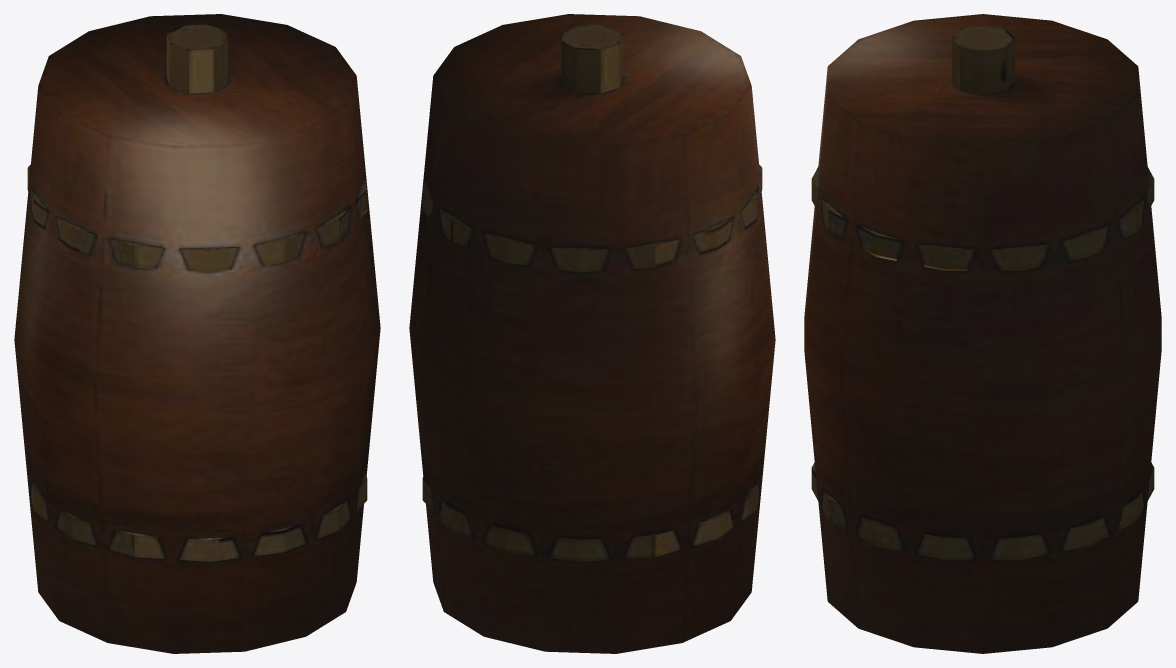
File: cantina_prop_containers_D.glb
3 renders of one model, left to right at view 1: azimuth 30°, elevation 25°; view 2: azimuth 150°, elevation 25°; view 3: azimuth 270°, elevation 25°, orthographic.
Parts seen in each view (by area): view 1: cantina_prop_containers_D; view 2: cantina_prop_containers_D; view 3: cantina_prop_containers_D.
Part boxes in pixels (x1,y1,x2,y2): cantina_prop_containers_D: (14,14,380,653); cantina_prop_containers_D: (409,14,775,653); cantina_prop_containers_D: (804,14,1161,653).
Bounding box in the file's own units: 0.46 × 0.76 × 0.4484.
1 material, 1 textured.
